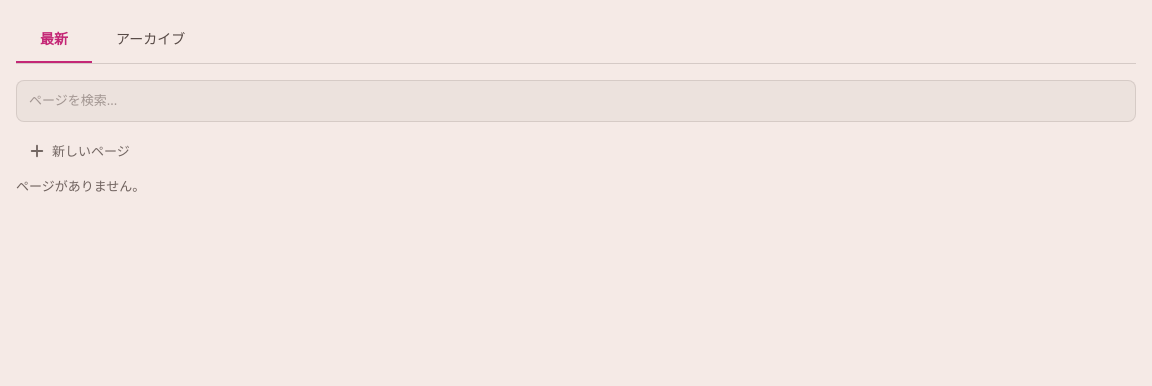
Test: Sidebar › archive search › filters archives by search query
This screenshot has width=1152, height=386.
Click the tab "アーカイブ" at (151, 40), box [92,16,209,63]
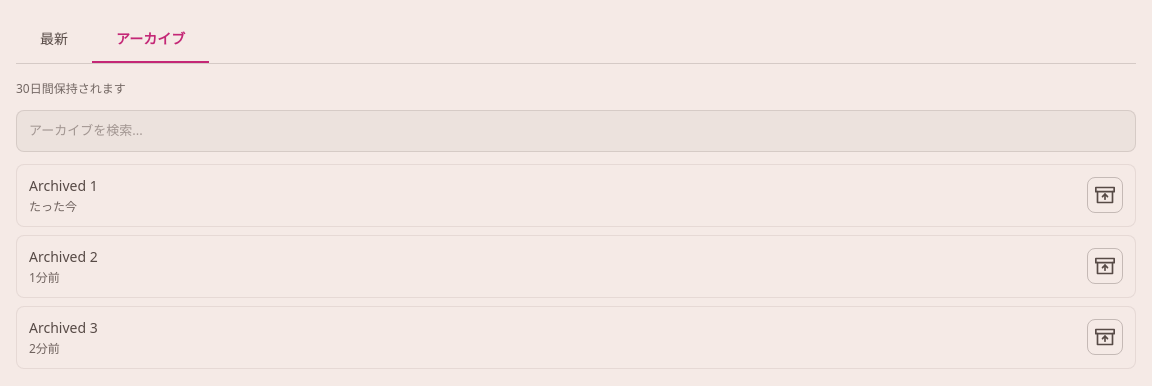
Type "Archived 1" into the field labelled "アーカイブを検索" at (576, 131), box [16,110,1136,152]
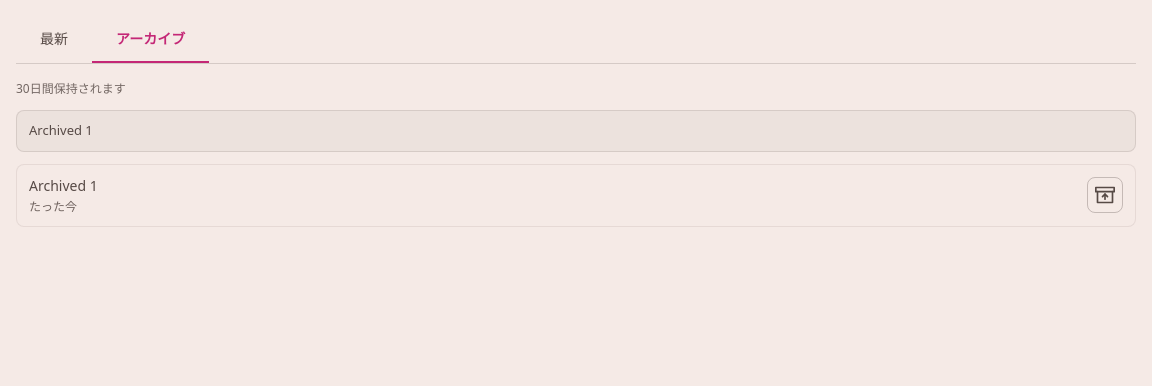
Expected: the heading "Archived 1" is shown, [29,176,98,194]
Expected: the button "Archived 2" is gone
